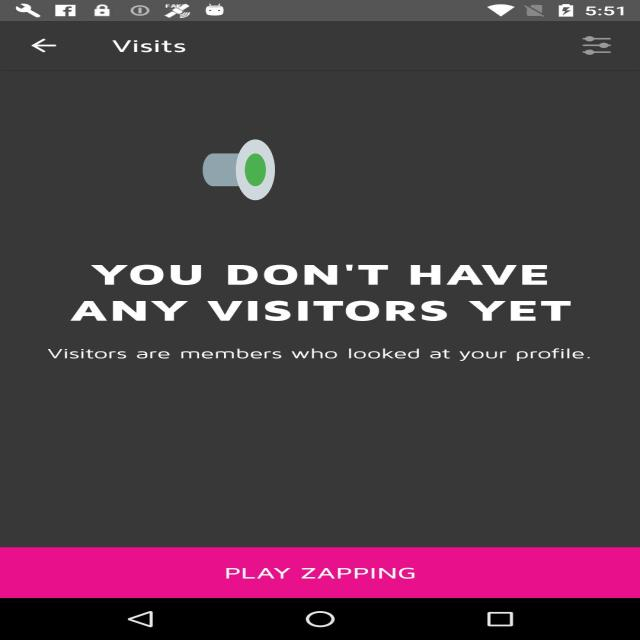social proof: (203, 114, 275, 226)
